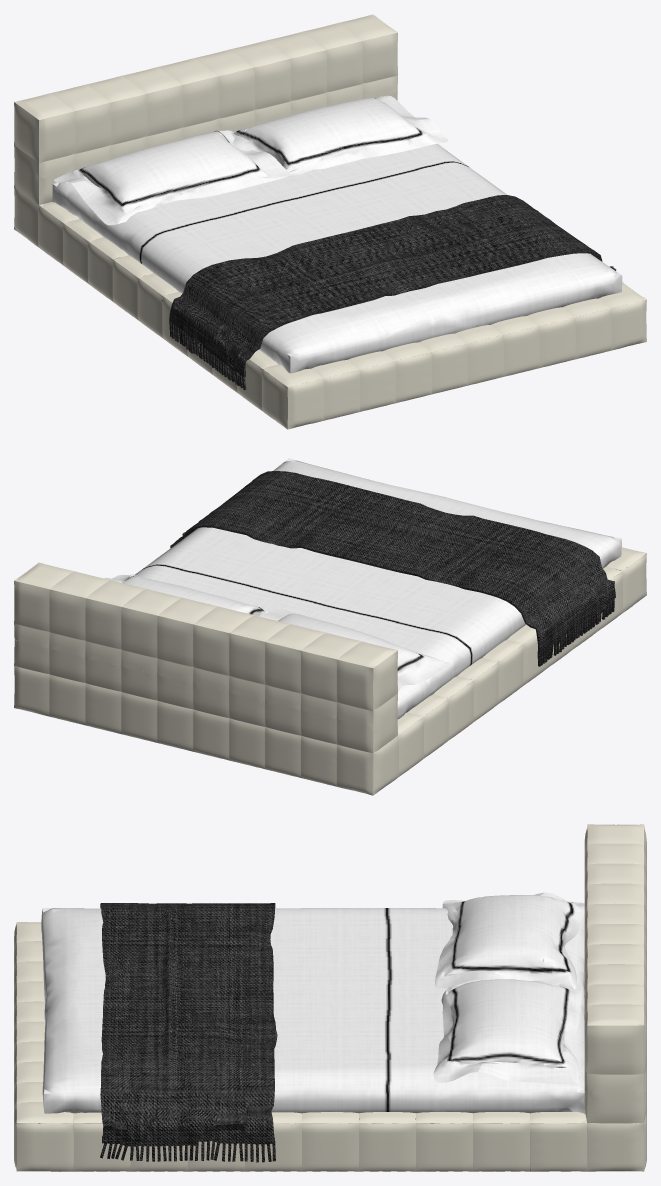
The picture shows the model from 3 angles, top to bottom: view 1: azimuth 30°, elevation 25°; view 2: azimuth 150°, elevation 25°; view 3: azimuth 270°, elevation 25°; orthographic projection. The views are drawn at different scales.
Visible parts, largest first — view 1: aeneoclsbdg000005; view 2: aeneoclsbdg000005; view 3: aeneoclsbdg000005.
Part boxes in pixels (box(x1,y1,x2,y2)): aeneoclsbdg000005: box(14, 14, 646, 429); aeneoclsbdg000005: box(14, 458, 646, 795); aeneoclsbdg000005: box(14, 824, 646, 1171).
Size of the model in its own units: 1.83 by 0.65 by 2.34.
Materials: 1 (1 with a texture image).
